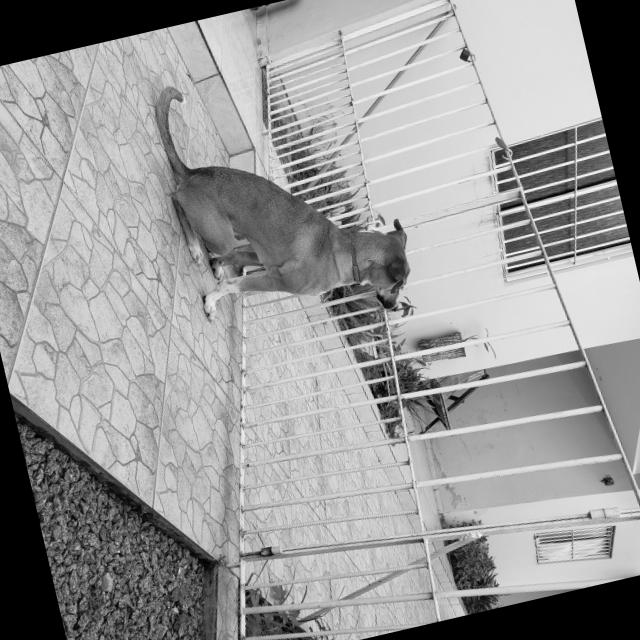sitting: (139, 37, 426, 370)
